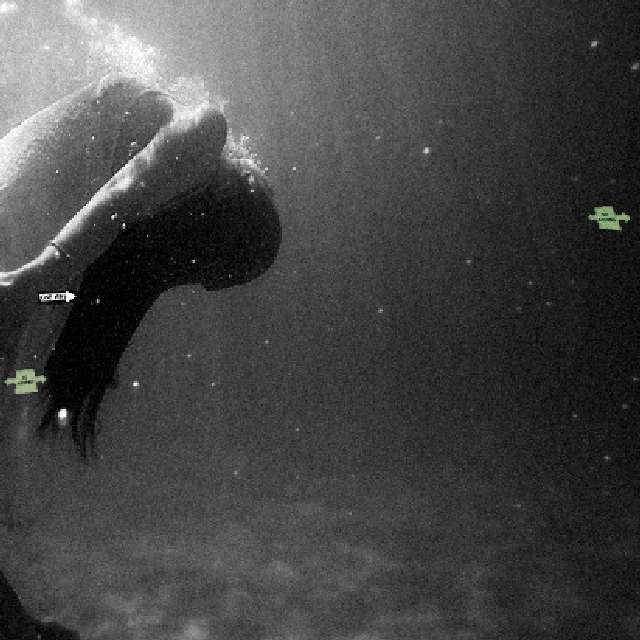GO_AROUND: (2, 367, 46, 393), (586, 204, 630, 230)
ONE_WAY_ right: (35, 288, 79, 303)
